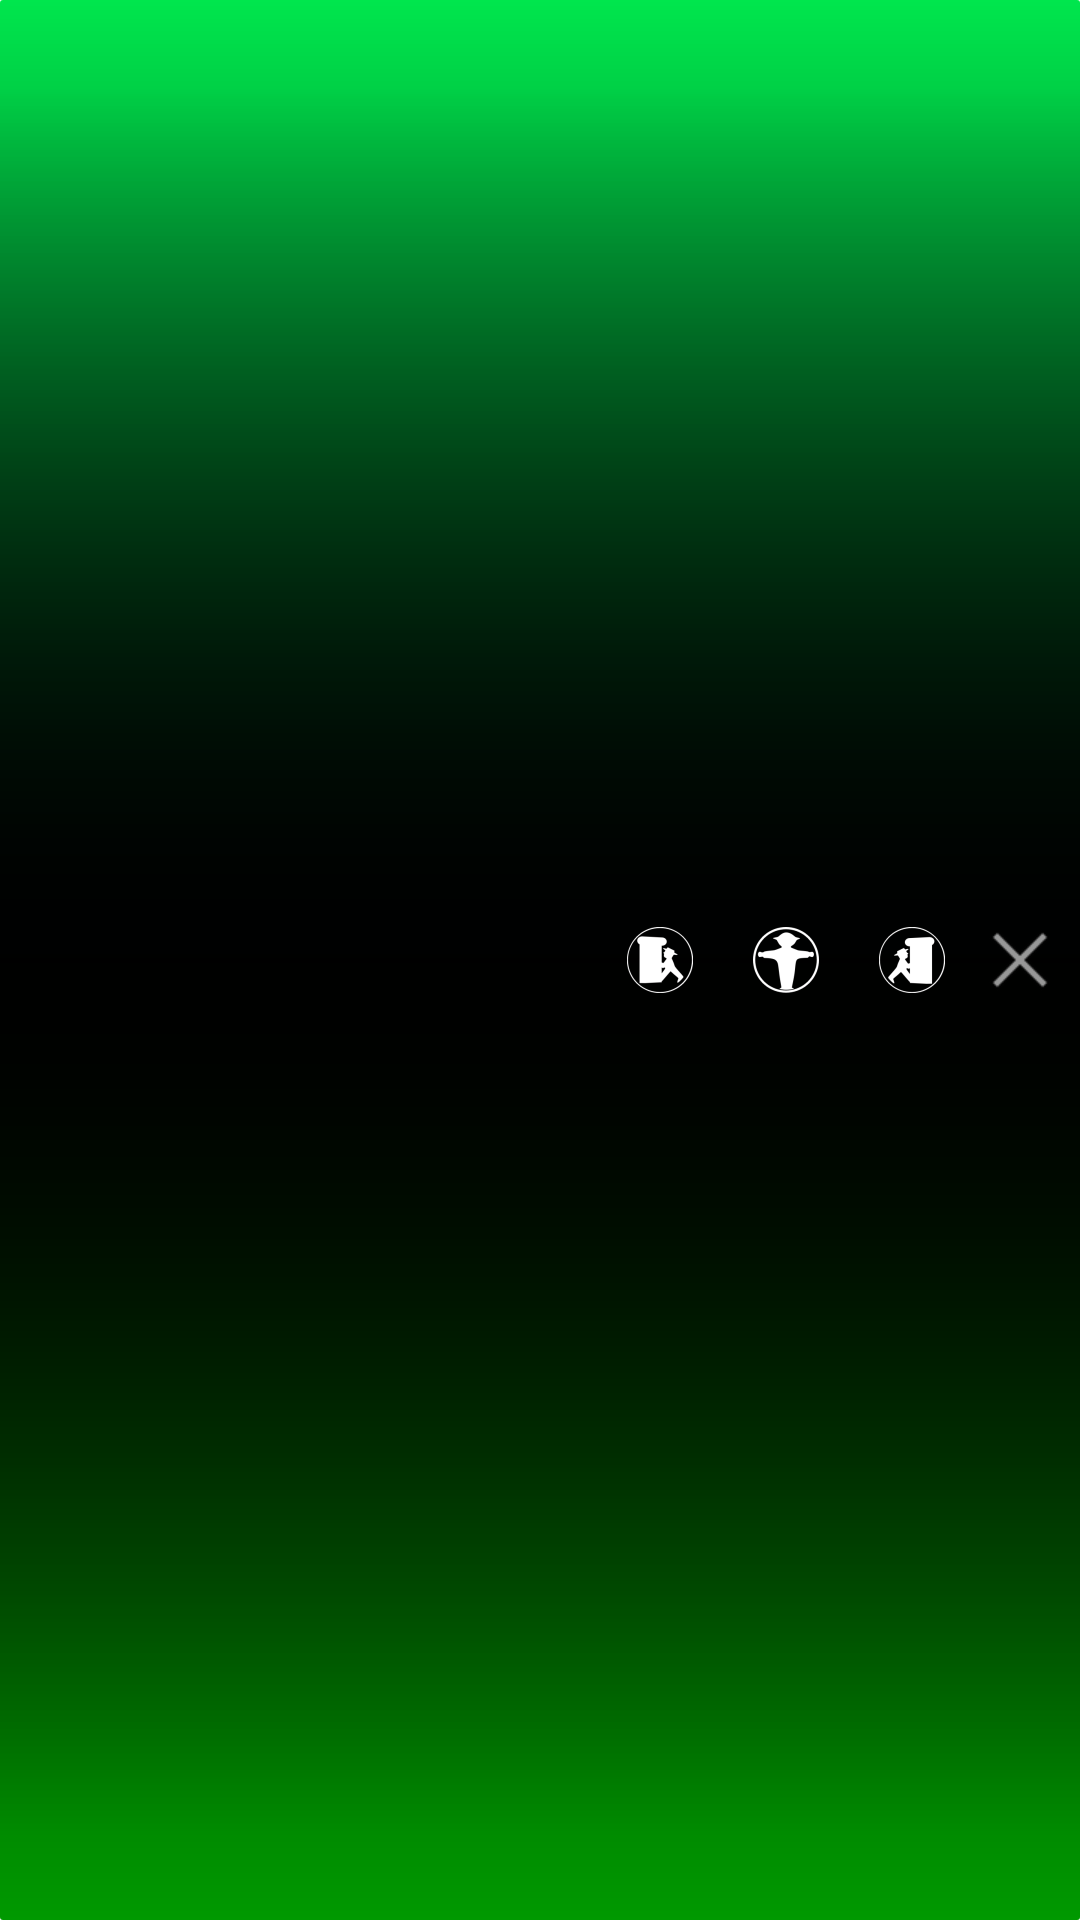

Named icons in this screenshot (1080×1920) and their centers, point (x, y):
close clear cancel: point (1020, 960)
